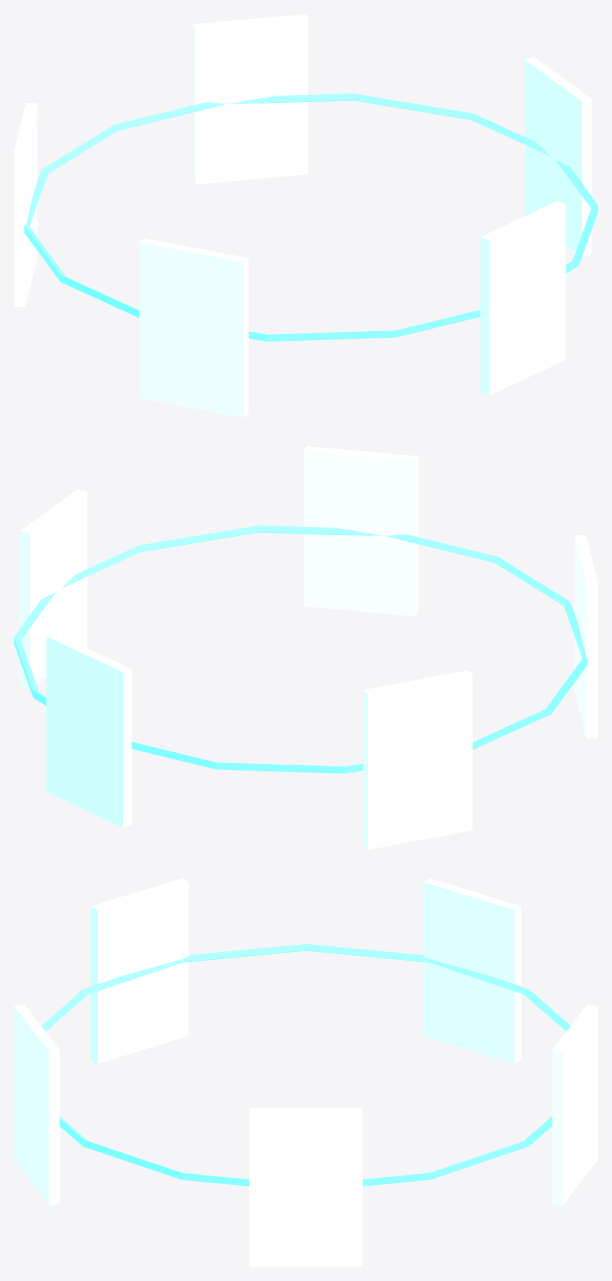
Rendered from dc_tablets.glb.
The picture shows the model from 3 angles, top to bottom: view 1: azimuth 30°, elevation 25°; view 2: azimuth 150°, elevation 25°; view 3: azimuth 270°, elevation 25°; orthographic projection.
Parts seen in each view (by area): view 1: part.dc_tablets; view 2: part.dc_tablets; view 3: part.dc_tablets.
Boxes of the visible parts, x1,y1,x2,y2 form: part.dc_tablets: [14, 14, 597, 417]; part.dc_tablets: [14, 446, 597, 849]; part.dc_tablets: [14, 878, 597, 1266].
Size of the model in its own units: 1.01 by 0.3 by 1.03.
